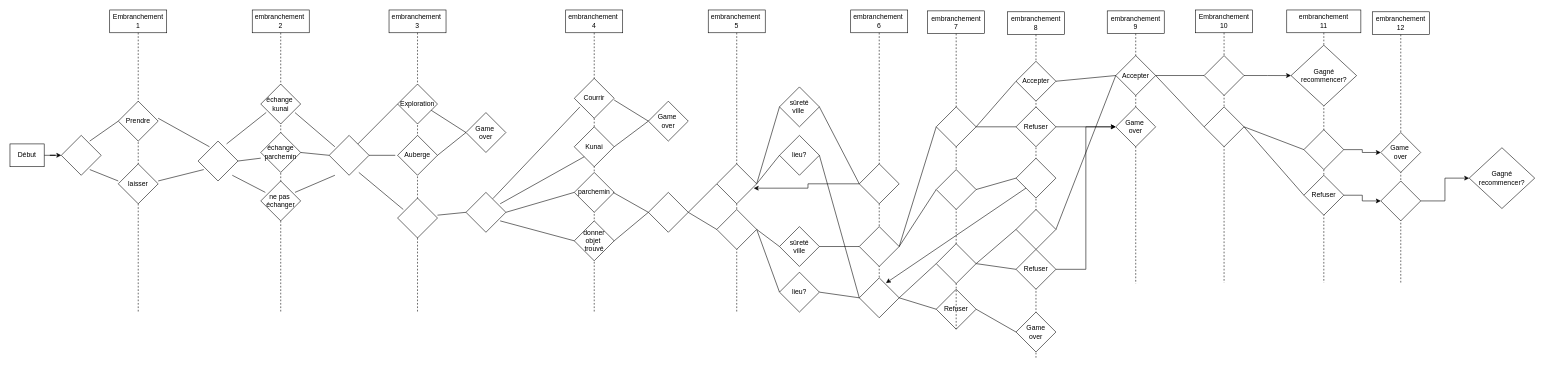
This 1545x368 diagram has some shape labels left out. The centre of each missing label's shape, as x and y in pixels:
"Aide" belongs at (x=879, y=246).
"Bâtiment" belongs at (x=736, y=183).
"Chef Garde" belongs at (x=1224, y=75).
"Continuer périple" belongs at (x=668, y=212).
"Donner" belongs at (x=956, y=263).
"Dormir dehors" belongs at (x=417, y=218).
"Explication lieu" belongs at (x=879, y=297).
"Explorer ville" belongs at (x=485, y=212).
"Garde" belongs at (x=736, y=229).
"Lieu" belongs at (x=1035, y=178).
"Marchand" belongs at (x=218, y=161).
"Ne rien dire" belongs at (x=956, y=189).
"Objet trouvé" belongs at (x=81, y=155).
"Parler" belongs at (x=1323, y=149).
"Raconter" belongs at (x=956, y=126).
"Raconter histoire" belongs at (x=1035, y=229).
"s'excuser" belongs at (x=879, y=183).
"Sauvetage" belongs at (x=1400, y=200).
"Services Secret" belongs at (x=1224, y=126).
"Trouve un village" belongs at (x=349, y=155).
